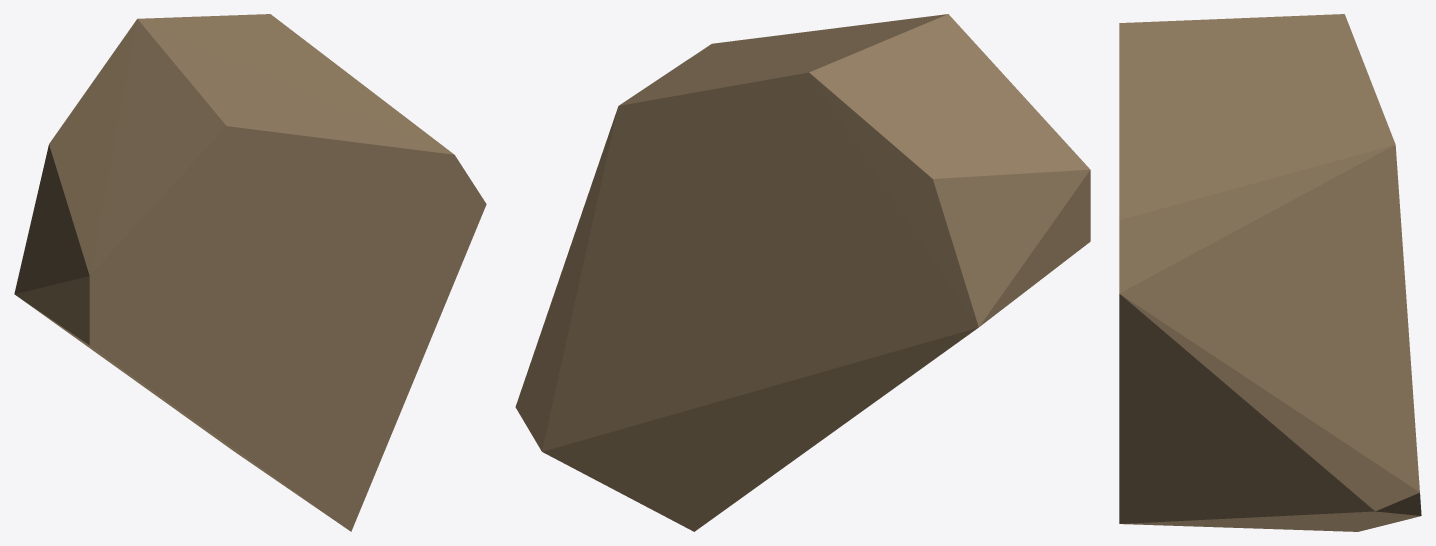
File: Rock10.fbx
The picture shows the model from 3 angles, left to right: view 1: azimuth 30°, elevation 25°; view 2: azimuth 150°, elevation 25°; view 3: azimuth 270°, elevation 25°; orthographic projection. The views are drawn at different scales.
Visible parts, largest first — view 1: Rock10; view 2: Rock10; view 3: Rock10.
Boxes of the visible parts, x1=… form: Rock10: x1=14, y1=14, x2=486, y2=531; Rock10: x1=515, y1=14, x2=1090, y2=531; Rock10: x1=1119, y1=14, x2=1421, y2=531.
Bounding box in the file's own units: 7.28 × 7.87 × 4.62.
